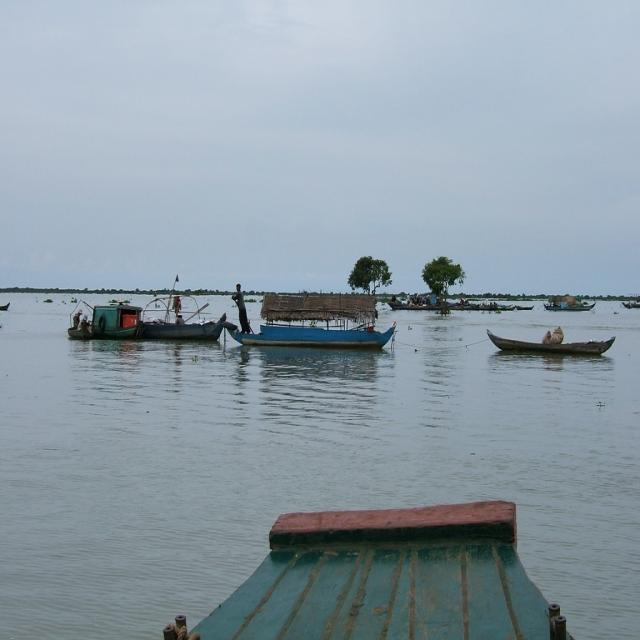boat: (224, 313, 402, 357), (58, 309, 234, 349), (482, 326, 614, 356), (546, 294, 592, 320)
